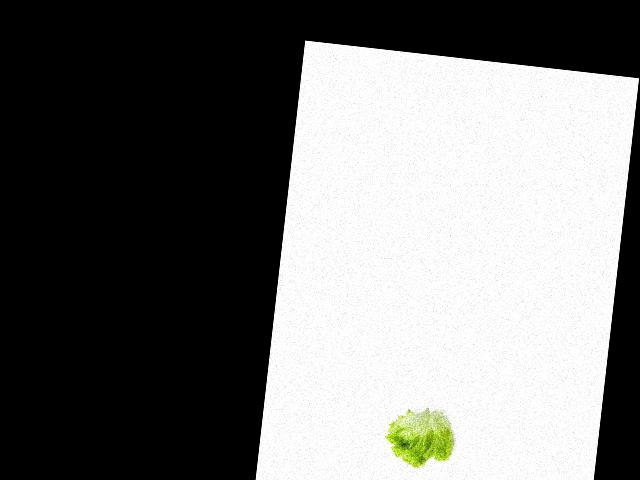lettuce: (381, 402, 462, 469)
